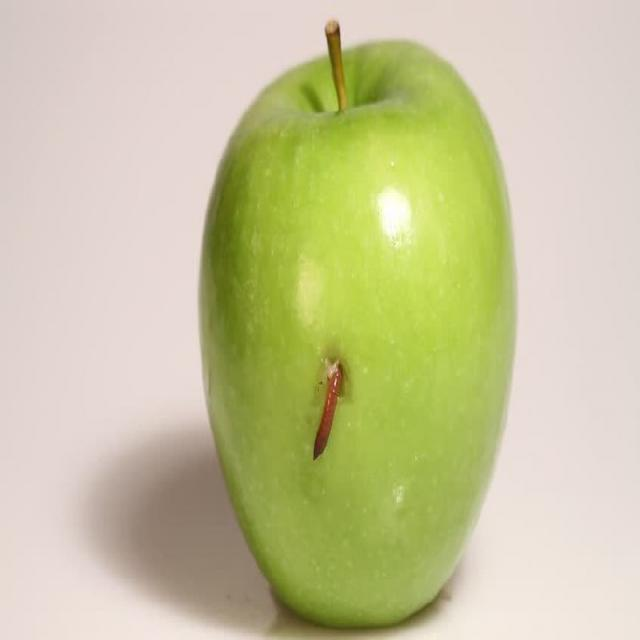Rotten: (178, 50, 532, 640)
